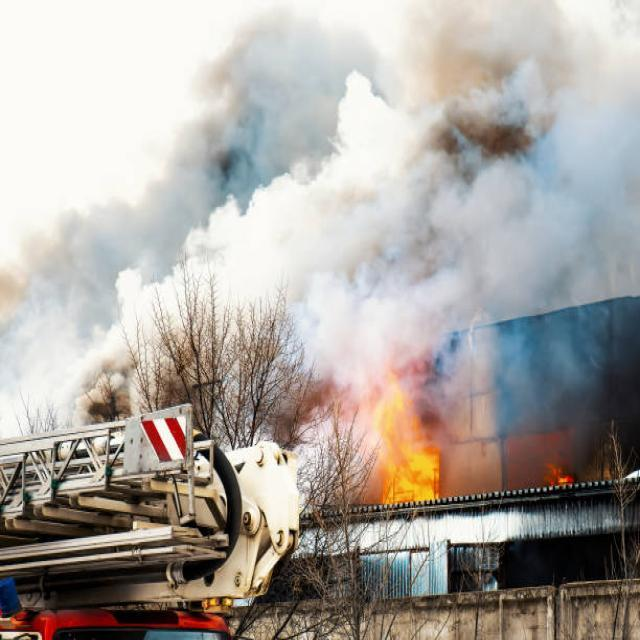Fire: (344, 384, 467, 501)
Smoke: (205, 0, 639, 270), (32, 183, 438, 364), (420, 304, 640, 510)
